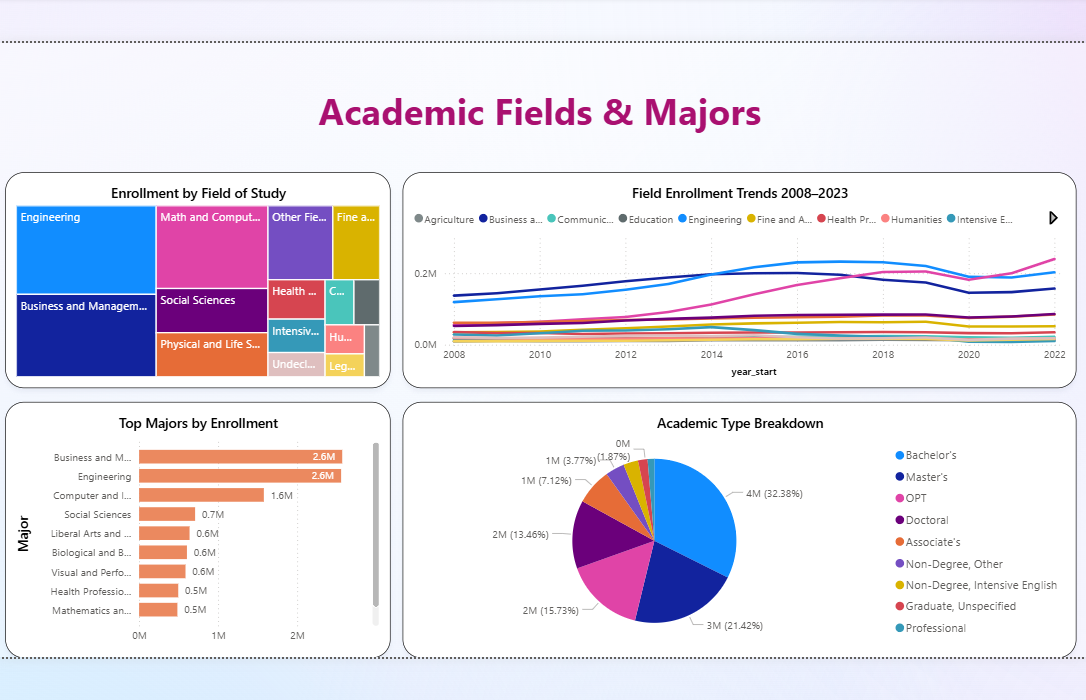

Layout of this report page (visuals, bound fields, positions):
{"tool":"powerbi","page":{"name":"Academic Fields & Majors","canvas":[1280,720],"ordinal":3},"visuals":[{"type":"treemap","title":"Enrollment by Field of Study","fields":{"Group":["field_of_study.field_of_study"],"Values":["Sum(field_of_study.students)"]},"box":[10,151.7,451.7,253.3],"z":0},{"type":"clusteredBarChart","title":"Top Majors by Enrollment","fields":{"Category":["field_of_study.major"],"Y":["Sum(field_of_study.students)"]},"box":[10,420,451.4,300],"z":1000},{"type":"lineChart","title":"Field Enrollment Trends 2008–2023","fields":{"Category":["field_of_study.year_start"],"Series":["field_of_study.field_of_study"],"Y":["Sum(field_of_study.students)"]},"box":[475,151.7,790,253.3],"z":2000},{"type":"pieChart","title":"Academic Type Breakdown","fields":{"Category":["academic_detail.academic_level"],"Y":["Sum(academic_detail.students)"]},"box":[475.7,420,790,300],"z":3000},{"type":"textbox","box":[10,26.7,1253.3,110],"z":4000}]}

Visuals, with their boxes on the page's 1280x720 design canvas (x1, y1, x2, y2). These are canvas units, not pixel positions in the 1086x700 screenshot, which may show the page scaled, cropped or inside an application window:
"Enrollment by Field of Study" treemap: BBox(10, 152, 462, 405)
"Top Majors by Enrollment" clusteredBarChart: BBox(10, 420, 461, 720)
"Field Enrollment Trends 2008–2023" lineChart: BBox(475, 152, 1265, 405)
"Academic Type Breakdown" pieChart: BBox(476, 420, 1266, 720)
textbox: BBox(10, 27, 1263, 137)
